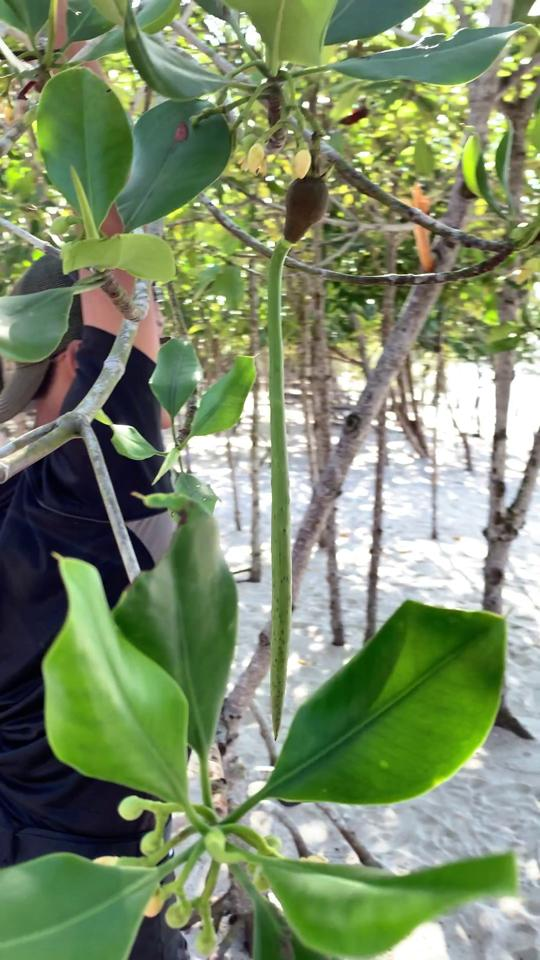setengah matang: (260, 163, 339, 755)
